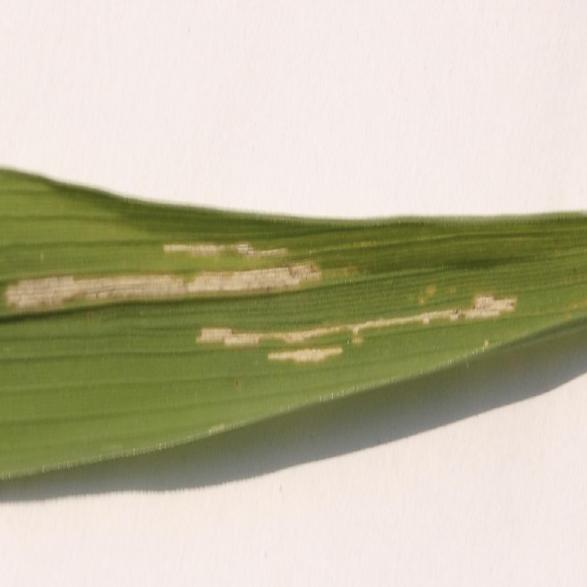Bacteria_Leaf_Blight: (8, 212, 539, 393)
